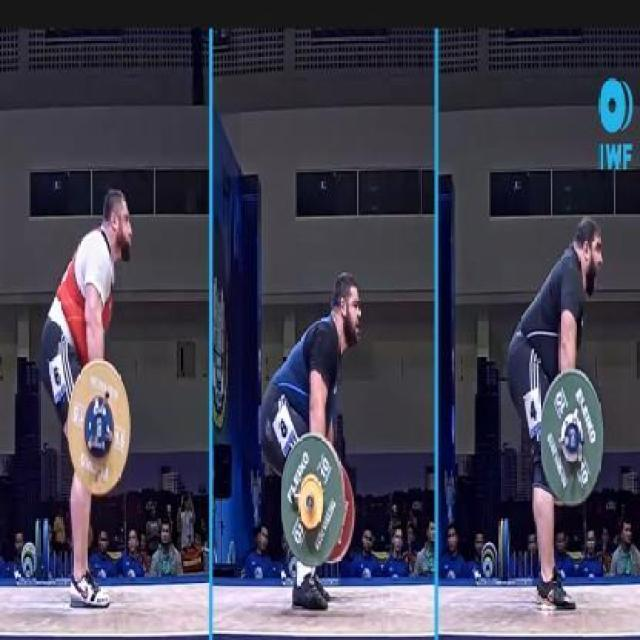barbell: (532, 366, 610, 511), (64, 352, 135, 500), (277, 431, 349, 570)
